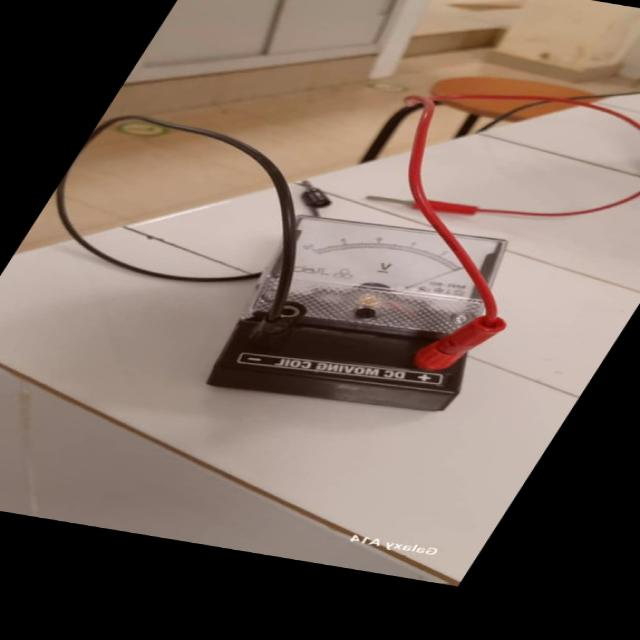Voltmeter: (135, 169, 628, 439)
